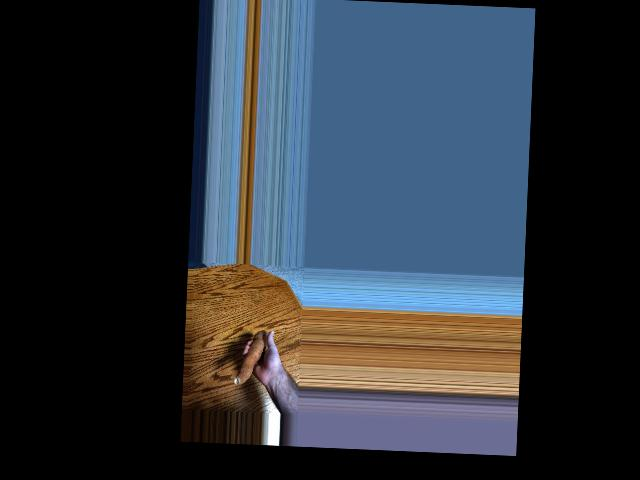sweet_potato: (234, 326, 265, 387)
